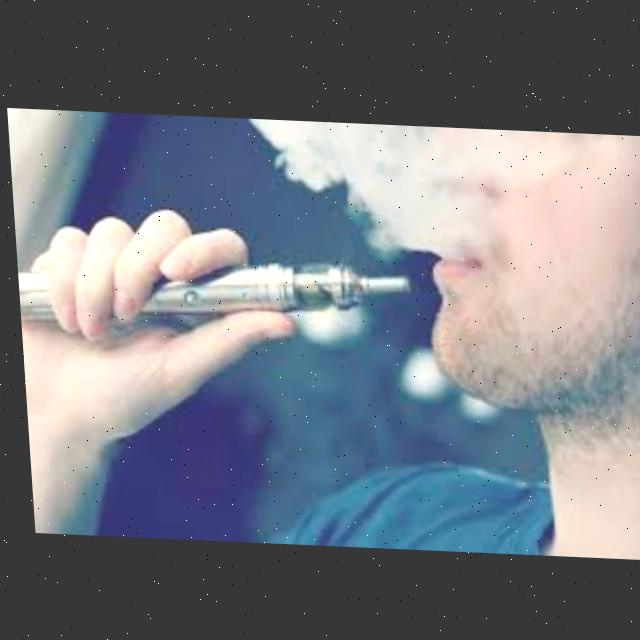vape: (13, 248, 410, 334)
